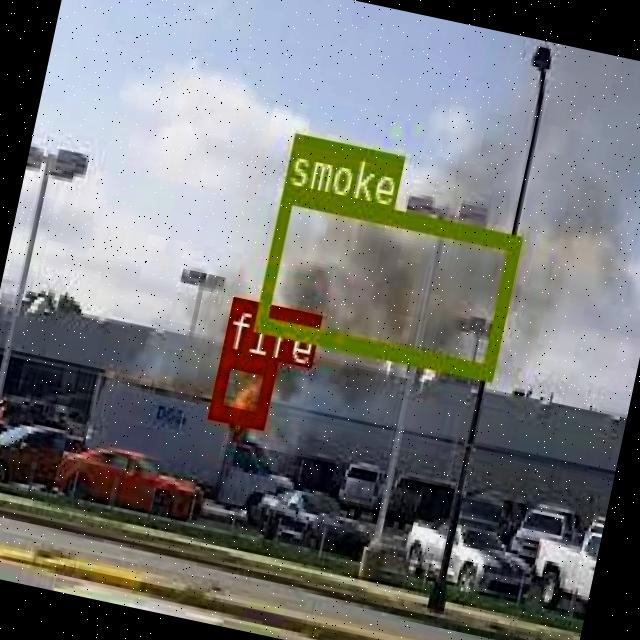fire: (208, 348, 274, 426)
smoke: (252, 184, 519, 378)
